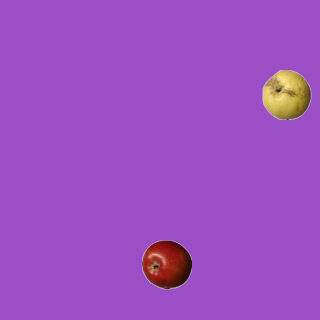Apple Braeburn: (141, 239, 191, 289)
Apple Golden 1: (261, 69, 311, 119)
